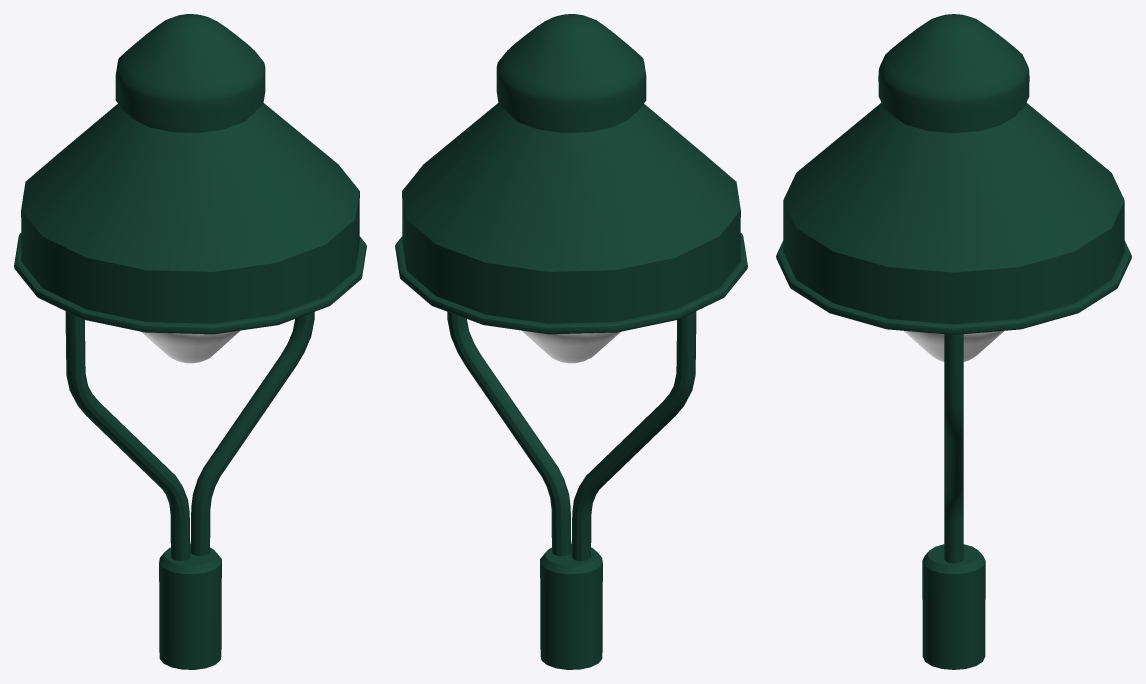
Rendered from Albstadt.glb.
3 renders of one model, left to right at view 1: azimuth 30°, elevation 25°; view 2: azimuth 150°, elevation 25°; view 3: azimuth 270°, elevation 25°, orthographic.
Parts seen in each view (by area): view 1: BezierCurve.001; view 2: BezierCurve.001; view 3: BezierCurve.001.
Boxes of the visible parts, x1=… form: BezierCurve.001: x1=14, y1=14, x2=366, y2=669; BezierCurve.001: x1=395, y1=14, x2=747, y2=669; BezierCurve.001: x1=776, y1=14, x2=1131, y2=669.
Bounding box in the file's own units: 0.5162 × 1.02 × 0.5162.
Materials: 3 (2 with a texture image).
